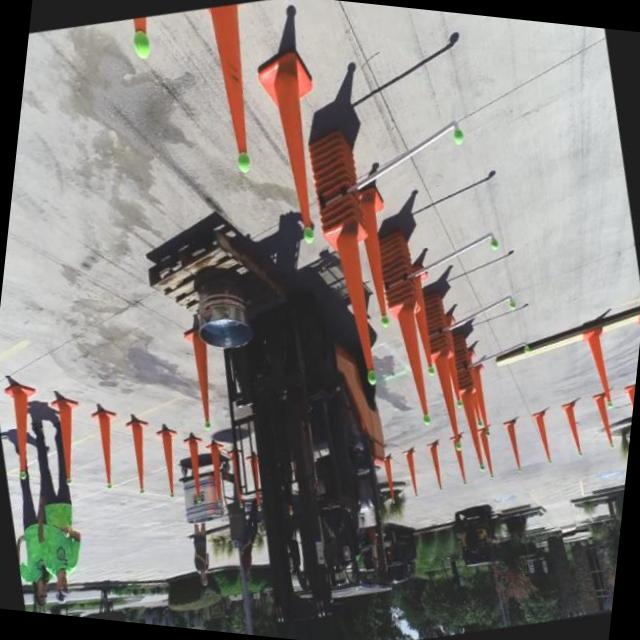forklift: (195, 312, 428, 634)
person: (22, 473, 98, 603), (2, 499, 63, 612), (184, 528, 219, 590)
